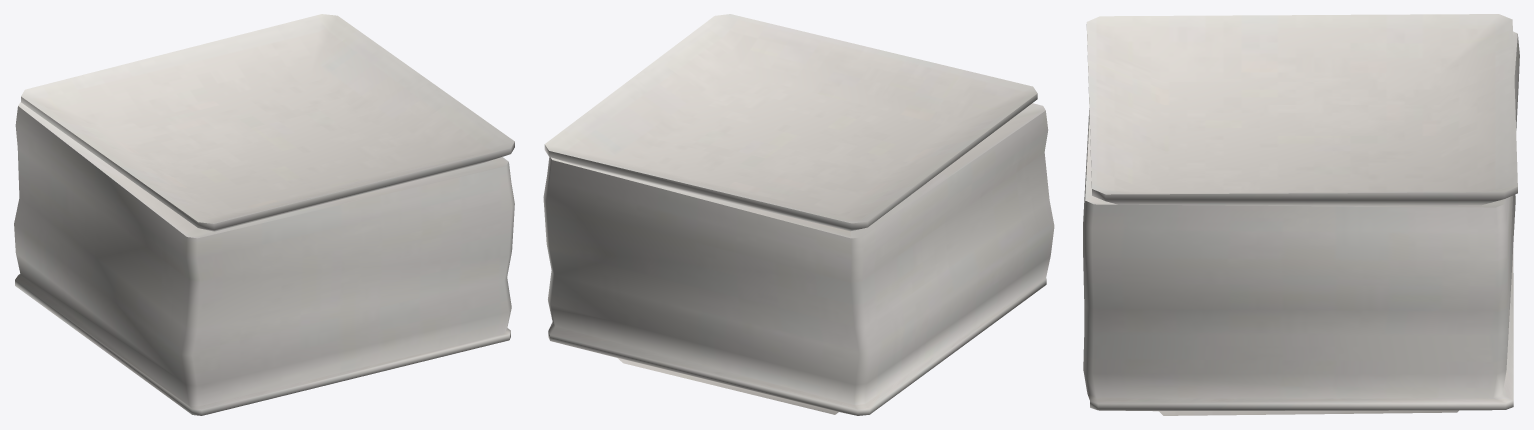
Rendered from T_Kitchen_Plate_Stack_02.glb.
3 renders of one model, left to right at view 1: azimuth 30°, elevation 25°; view 2: azimuth 150°, elevation 25°; view 3: azimuth 270°, elevation 25°, orthographic. The views are drawn at different scales.
Parts seen in each view (by area): view 1: T_Kitchen_Plate_Stack_02; view 2: T_Kitchen_Plate_Stack_02; view 3: T_Kitchen_Plate_Stack_02.
Part boxes in pixels (x1=…): T_Kitchen_Plate_Stack_02: x1=14, y1=14, x2=514, y2=415; T_Kitchen_Plate_Stack_02: x1=543, y1=14, x2=1054, y2=415; T_Kitchen_Plate_Stack_02: x1=1083, y1=14, x2=1519, y2=415.
Bounding box in the file's own units: 0.274 × 0.1708 × 0.2676.
1 material, 1 textured.
